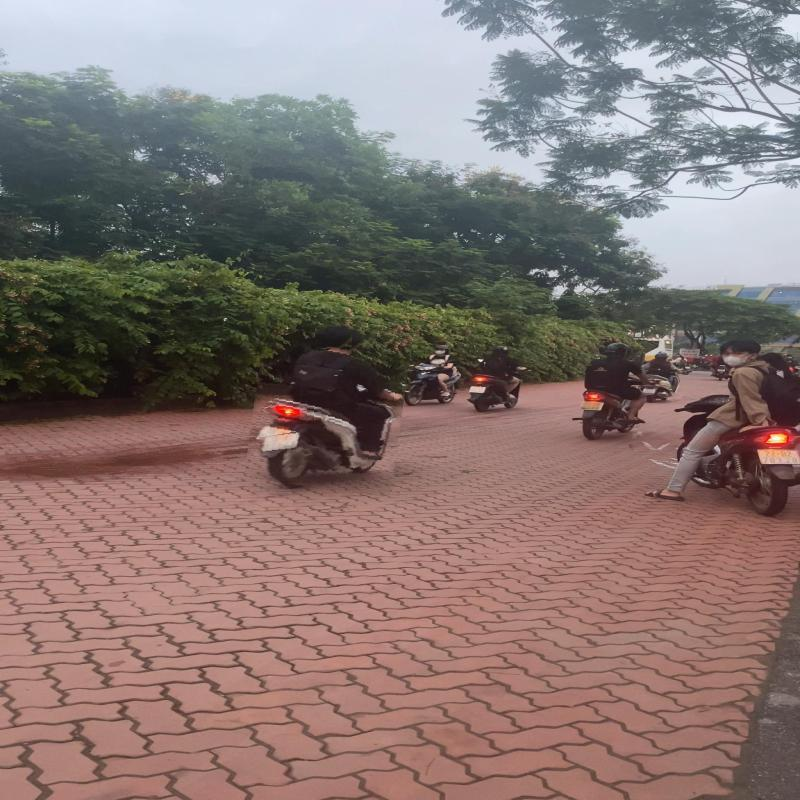licenseplate: (260, 432, 302, 452)
motorcyclist: (249, 318, 408, 492)
nohelmet: (315, 324, 352, 349)
